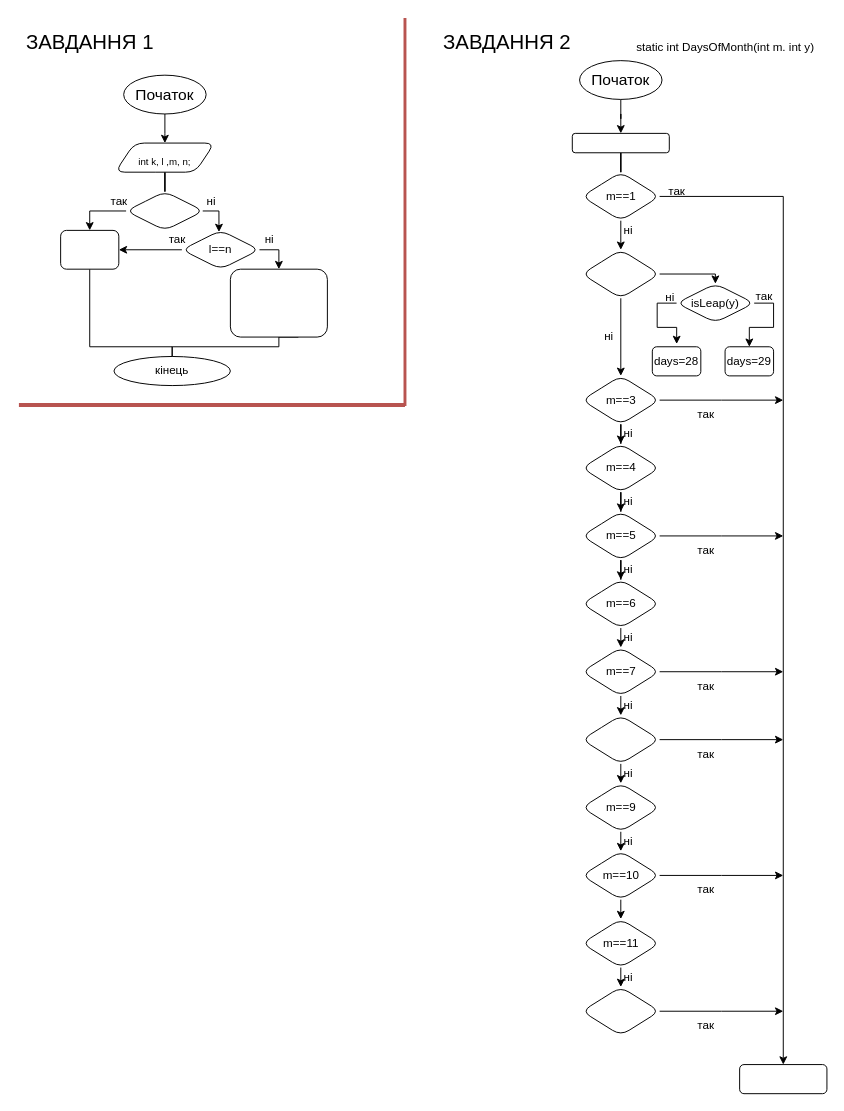
Image size: 844x1111. Some labels were removed from this diagram. The shapes that lost their labels are listed below. From the top down, each one's centre as x and y in pixels, then its label:
the point at 620,142: int days
the point at 164,210: k==m
the point at 89,249: Вивести: "можна"
the point at 620,273: m==2
the point at 278,302: Вивести: "неможна. Можливо через: (k, n)або(m, l)"
the point at 620,739: m==8
the point at 620,1010: m==12
the point at 783,1079: days=31
